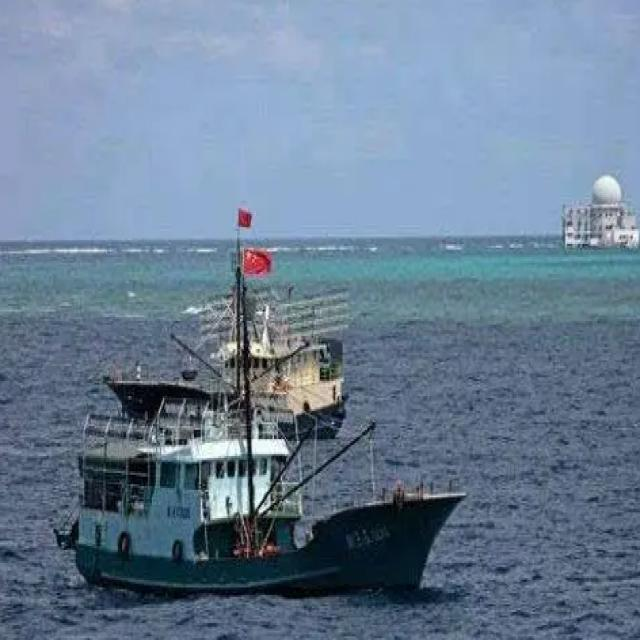fishing boat: (60, 355, 467, 598), (185, 257, 357, 437)
